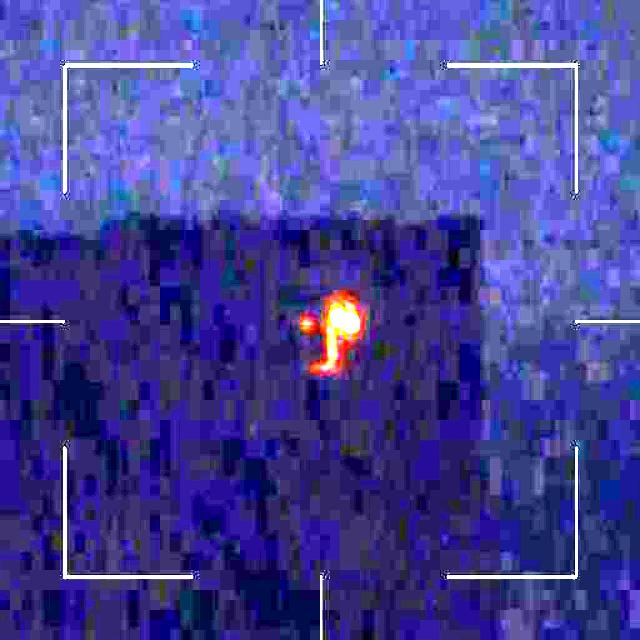bird: (288, 299, 358, 368)
